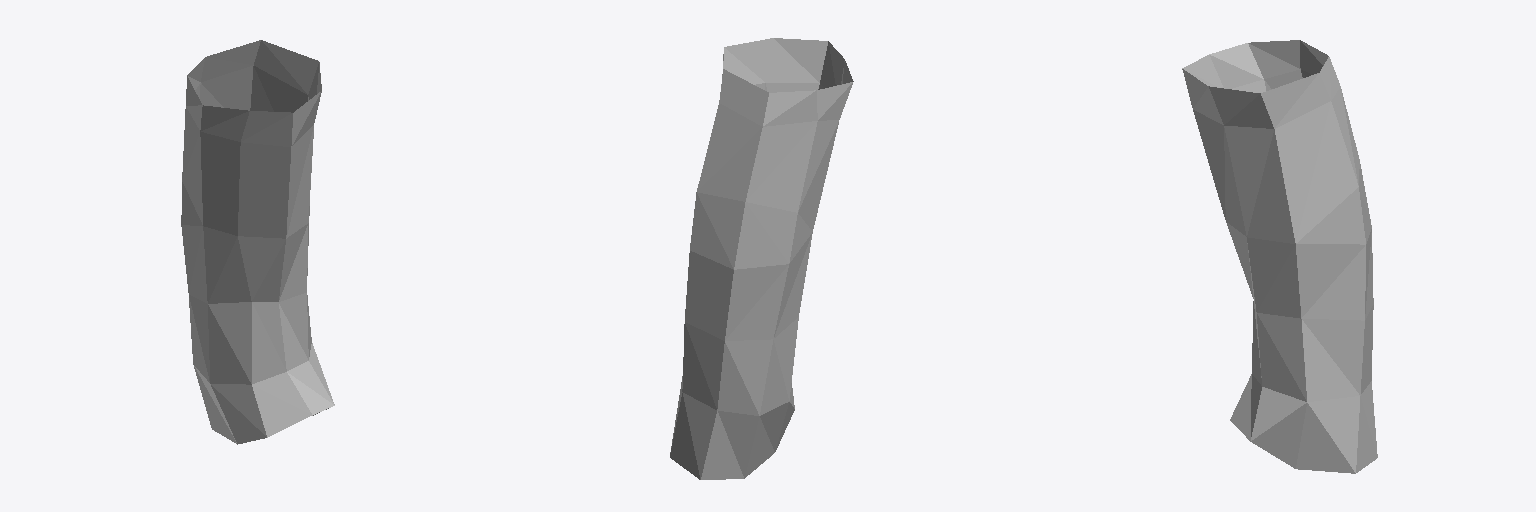
The model's file is human_leftcalve.obj.
3 views of the same model, side by side, from view 1: azimuth 30°, elevation 25°; view 2: azimuth 150°, elevation 25°; view 3: azimuth 270°, elevation 25° (orthographic).
Parts seen in each view (by area): view 1: Left_Calve; view 2: Left_Calve; view 3: Left_Calve.
Part boxes in pixels (left/top/right/bottom): Left_Calve: left=181, top=40, right=334, bottom=444; Left_Calve: left=670, top=38, right=853, bottom=479; Left_Calve: left=1182, top=40, right=1377, bottom=473.
Size of the model in its own units: 0.3081 by 0.8281 by 0.3754.